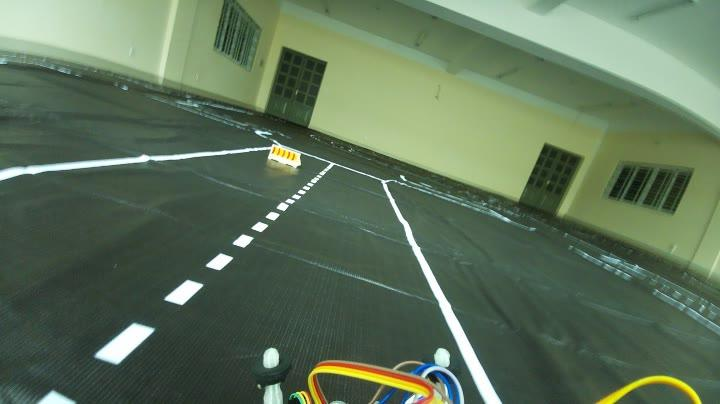roadblock: (264, 139, 300, 174)
